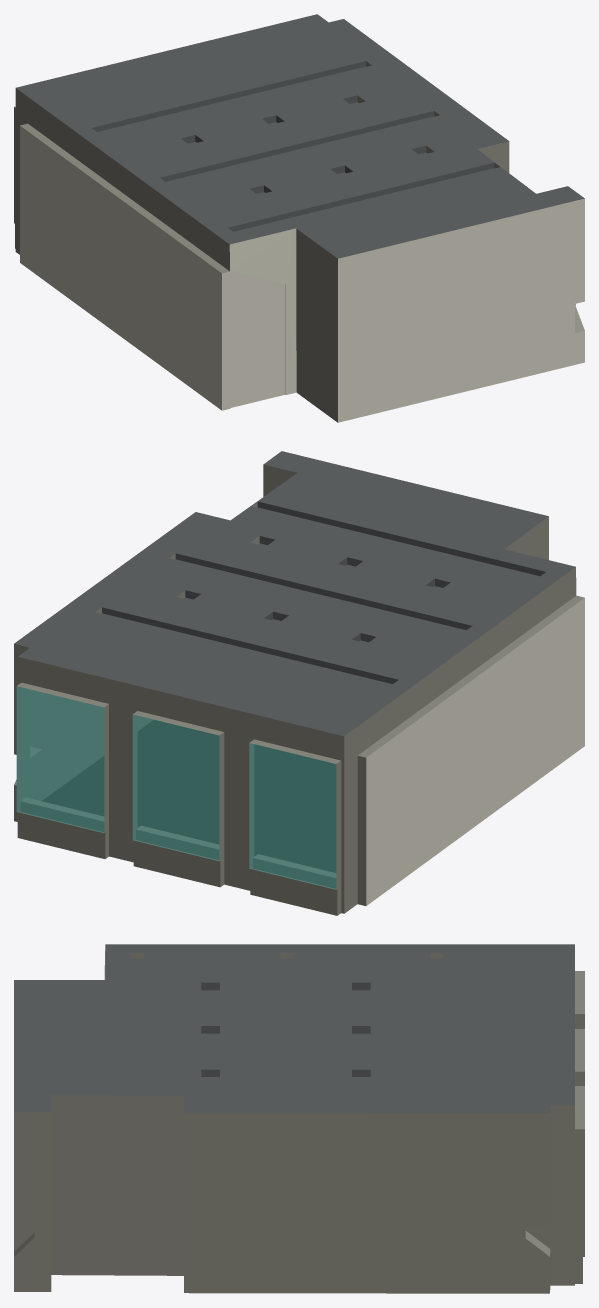
3 views of the same model, one above another, from view 1: azimuth 30°, elevation 25°; view 2: azimuth 150°, elevation 25°; view 3: azimuth 270°, elevation 25° (orthographic). The views are drawn at different scales.
Visible parts, largest first — view 1: ceiling_ID187, wall-front_ID79, wall-left-main_ID57, wall-around_ID17, wall-left-side_ID85, light-pipe2_ID73, light-pipe3_ID37, light-pipe1_ID97; view 2: ceiling_ID187, wall-around_ID17, wall-left-main_ID57, floor_ID65, window-3_ID23, window-1_ID127, window-2_ID121, light-pipe2_ID73, light-pipe3_ID37, light-pipe1_ID97, heater-3_ID181, heater-1_ID3 (+2 smaller); view 3: wall-around_ID17, ceiling_ID187, light-pipe2_ID73, light-pipe3_ID37, light-pipe1_ID97.
Part boxes in pixels (left/top/right/bottom): ceiling_ID187: left=16, top=14, right=584, bottom=258; wall-front_ID79: left=338, top=198, right=584, bottom=422; wall-left-main_ID57: left=20, top=126, right=296, bottom=410; wall-around_ID17: left=14, top=88, right=584, bottom=332; wall-left-side_ID85: left=296, top=228, right=337, bottom=422; light-pipe2_ID73: left=160, top=111, right=434, bottom=181; light-pipe3_ID37: left=92, top=61, right=365, bottom=132; light-pipe1_ID97: left=228, top=163, right=494, bottom=231; ceiling_ID187: left=14, top=451, right=575, bottom=736; wall-around_ID17: left=14, top=464, right=584, bottom=915; wall-left-main_ID57: left=366, top=598, right=584, bottom=905; floor_ID65: left=42, top=720, right=335, bottom=872; window-3_ID23: left=16, top=686, right=104, bottom=832; window-1_ID127: left=249, top=743, right=336, bottom=889; window-2_ID121: left=132, top=714, right=219, bottom=860; light-pipe2_ID73: left=175, top=553, right=472, bottom=630; light-pipe3_ID37: left=102, top=607, right=398, bottom=684; light-pipe1_ID97: left=257, top=501, right=545, bottom=576; heater-3_ID181: left=21, top=797, right=103, bottom=831; heater-1_ID3: left=253, top=854, right=335, bottom=888; wall-around_ID17: left=14, top=971, right=584, bottom=1293; ceiling_ID187: left=14, top=944, right=574, bottom=1113; light-pipe2_ID73: left=280, top=958, right=293, bottom=1099; light-pipe3_ID37: left=430, top=958, right=443, bottom=1099; light-pipe1_ID97: left=131, top=958, right=144, bottom=1095.
Bounding box in the file's own units: 6.19 × 2.99 × 8.59.
